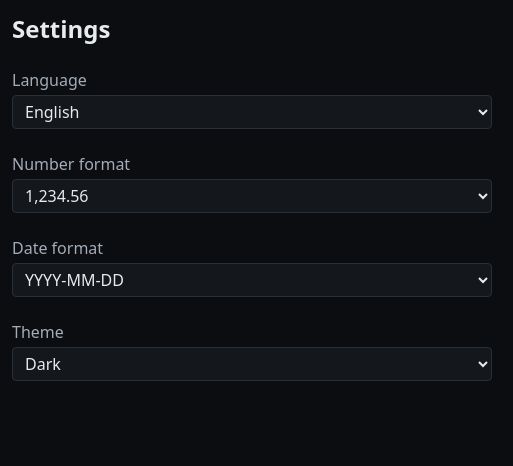
Test: PreferencesProvider › surfaces a failed preference write on the settings page and clears it after a later successful save
Select "DD-MM-YYYY" in the dropdown labelled "Date format": [252, 280] box [12,263,492,297]
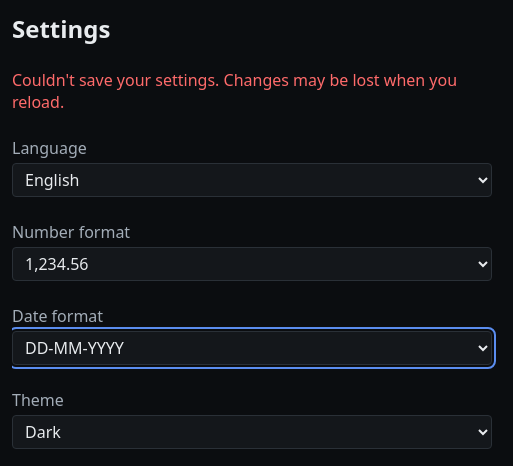
Expected: the message reads "Couldn't save your settings. Changes may be lost when you reload.", [12,69,457,113]
Select "MM-DD-YYYY" in the dropdown labelled "Date format": [252, 348] box [12,331,492,365]
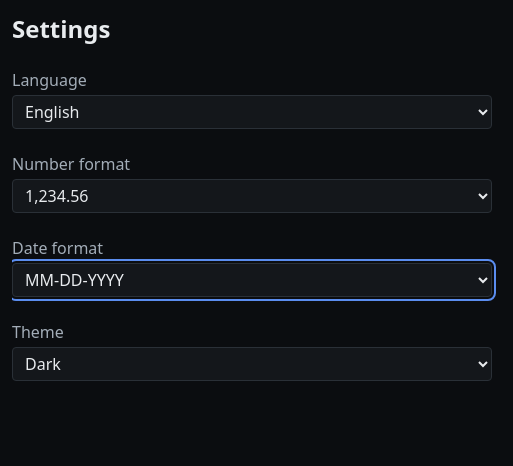
Expected: the message "Couldn't save your settings. Changes may be lost when you reload." is gone
